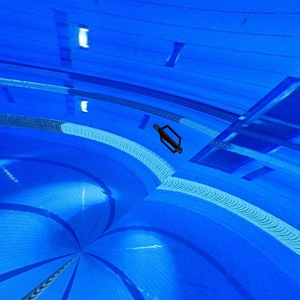submarine: (150, 122, 192, 160)
